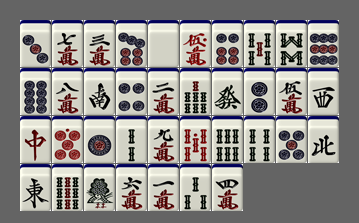0m: (180, 20, 211, 67)
0p: (52, 116, 83, 163)
0s: (180, 116, 211, 163)
1m: (148, 164, 179, 211)
1p: (84, 116, 115, 163)
1s: (84, 164, 115, 211)
1z: (20, 164, 51, 211)
2m: (148, 68, 179, 115)
2p: (244, 68, 275, 115)
2s: (116, 116, 147, 163)
2z: (84, 68, 115, 115)
3m: (84, 20, 115, 67)
3p: (20, 20, 51, 67)
3s: (180, 164, 211, 211)
3z: (308, 68, 339, 115)
4m: (212, 164, 243, 211)
4p: (116, 68, 147, 115)
4s: (244, 116, 275, 163)
4z: (308, 116, 339, 163)
5m: (276, 68, 307, 115)
5p: (276, 116, 307, 163)
5s: (244, 20, 275, 67)
5z: (148, 20, 179, 67)
6m: (116, 164, 147, 211)
6p: (212, 20, 243, 67)
6s: (212, 116, 243, 163)
6z: (212, 68, 243, 115)
7m: (52, 20, 83, 67)
7p: (116, 20, 147, 67)
7s: (180, 68, 211, 115)
7z: (20, 116, 51, 163)
8m: (52, 68, 83, 115)
8p: (20, 68, 51, 115)
8s: (276, 20, 307, 67)
9m: (148, 116, 179, 163)
9p: (308, 20, 339, 67)
9s: (52, 164, 83, 211)
